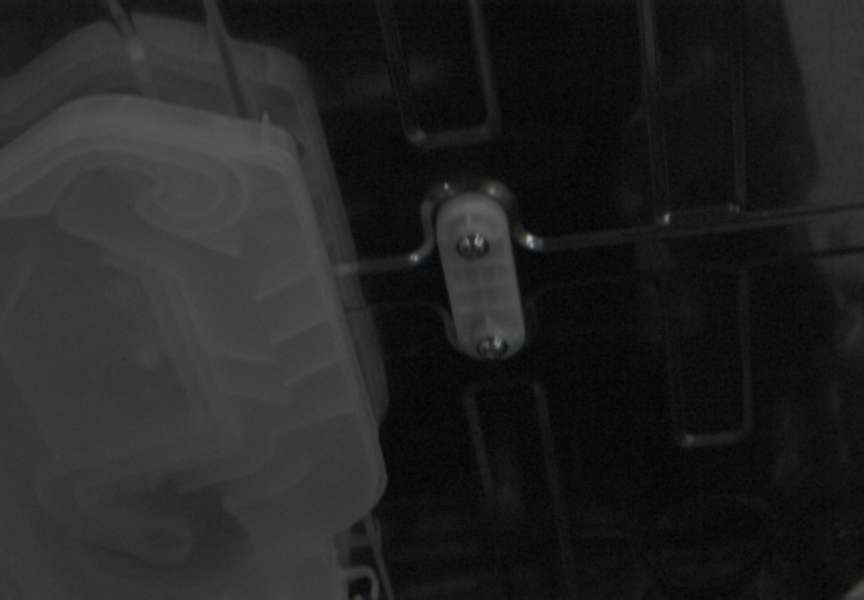screw: (456, 233, 489, 260), (476, 335, 508, 360)
